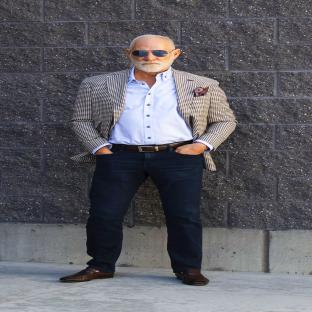Human: (61, 34, 236, 285)
